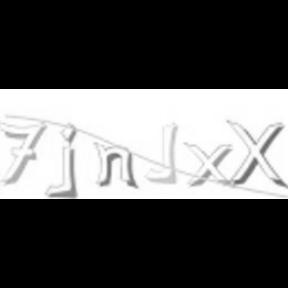7: (0, 120, 48, 186)
J: (142, 120, 186, 186)
X: (224, 117, 288, 189)
j: (44, 122, 82, 200)
n: (90, 140, 140, 188)
x: (182, 142, 234, 188)
